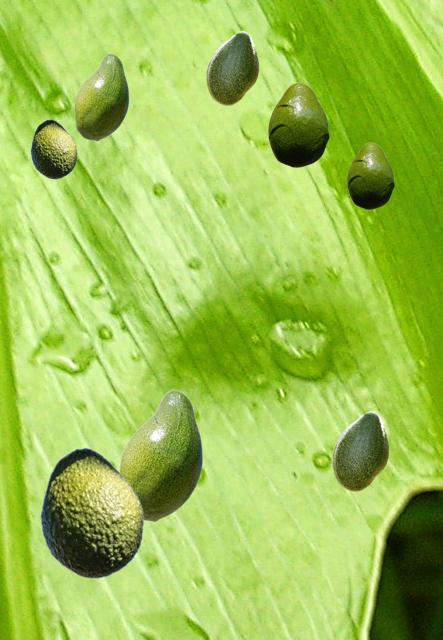avocado: (39, 447, 143, 578), (119, 389, 202, 521), (268, 82, 328, 166), (74, 53, 128, 140), (332, 411, 387, 490), (206, 31, 257, 104), (347, 142, 393, 208), (30, 119, 76, 178)
